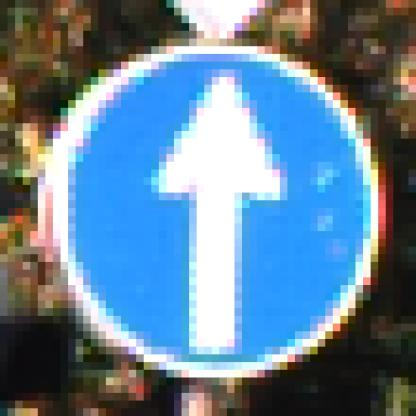AheadOnly: (47, 40, 380, 379)
